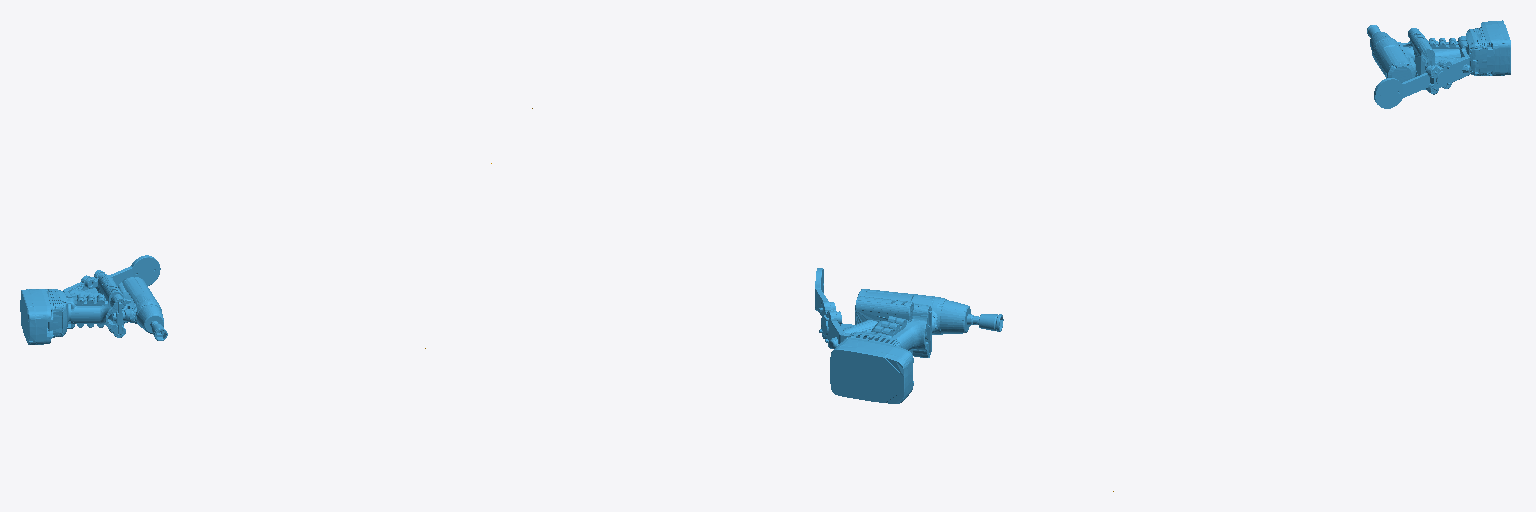
robot.urdf — rbkairos_migration_sensor_config_2:
<?xml version="1.0" ?>
<robot name="rbkairos_migration_sensor_config_2">
  <link name="rbkairos_migration_sensor_config_2/base_footprint">
    <inertial>
      <origin rpy="0 -0 0" xyz="0.006539 -4.8e-05 0.14334"/>
      <mass value="131.751"/>
      <inertia ixx="2.20128" ixy="0.14833" ixz="-0.302225" iyy="7.92558" iyz="0.0013047" izz="6.61545"/>
    </inertial>
    <collision name="summit_xl_base_footprint_fixed_joint_lump__summit_xl_base_link_collision">
      <origin rpy="0 -0 0" xyz="0 0 0.127"/>
      <geometry>
        <mesh filename="package://rbkairos_migration_sensor_config_2/meshes/summit_xls_chassis.stl" scale="1 1 1"/>
      </geometry>
    </collision>
    <collision name="summit_xl_base_footprint_fixed_joint_lump__summit_xl_arm_base_link_collision_1">
      <origin rpy="0 -0 2.35619" xyz="0.1883 0 0.50912"/>
      <geometry>
        <mesh filename="package://rbkairos_migration_sensor_config_2/meshes/base.stl" scale="1 1 1"/>
      </geometry>
    </collision>
    <collision name="summit_xl_base_footprint_fixed_joint_lump__summit_xl_front_laser_base_link_collision_2">
      <origin rpy="3.14159 0 -0.785398" xyz="0.2865 -0.20894 0.4243"/>
      <geometry>
        <mesh filename="package://rbkairos_migration_sensor_config_2/meshes/sick_s300.dae" scale="1 1 1"/>
      </geometry>
    </collision>
    <collision name="summit_xl_base_footprint_fixed_joint_lump__summit_xl_front_rgbd_camera_link_collision_3">
      <origin rpy="0 -0 0" xyz="0.3585 0 0.37762"/>
      <geometry>
        <mesh filename="package://rbkairos_migration_sensor_config_2/meshes/orbbec_astra.dae" scale="1 1 1"/>
      </geometry>
    </collision>
    <collision name="summit_xl_base_footprint_fixed_joint_lump__summit_xl_imu_link_collision_4">
      <origin rpy="0 -0 0" xyz="0.127 -0.129 0.339"/>
      <geometry>
        <box size="0.001 0.001 0.001"/>
      </geometry>
    </collision>
    <collision name="summit_xl_base_footprint_fixed_joint_lump__summit_xl_rear_laser_base_link_collision_5">
      <origin rpy="3.14159 0 2.35619" xyz="-0.2865 0.20894 0.4243"/>
      <geometry>
        <mesh filename="package://rbkairos_migration_sensor_config_2/meshes/sick_s300.dae" scale="1 1 1"/>
      </geometry>
    </collision>
    <visual name="summit_xl_base_footprint_visual">
      <origin rpy="0 -0 0" xyz="0 0 0"/>
      <geometry>
        <box size="0.001 0.001 0.001"/>
      </geometry>
    </visual>
    <visual name="summit_xl_base_footprint_fixed_joint_lump__summit_xl_base_link_visual_1">
      <origin rpy="0 -0 0" xyz="0 0 0.127"/>
      <geometry>
        <mesh filename="package://rbkairos_migration_sensor_config_2/meshes/summit_xls_chassis.stl" scale="1 1 1"/>
      </geometry>
      <material name="black">
        <color rgba="0.0 0.0 0.0 1"/>
      </material>
    </visual>
    <visual name="summit_xl_base_footprint_fixed_joint_lump__summit_xl_arm_base_link_visual_2">
      <origin rpy="0 -0 2.35619" xyz="0.1883 0 0.50912"/>
      <geometry>
        <mesh filename="package://rbkairos_migration_sensor_config_2/meshes/base.dae" scale="1 1 1"/>
      </geometry>
    </visual>
    <visual name="summit_xl_base_footprint_fixed_joint_lump__summit_xl_base_logo_front_visual_3">
      <origin rpy="0 0 -1.5708" xyz="0.345 0 0.127"/>
      <geometry>
        <mesh filename="package://rbkairos_migration_sensor_config_2/meshes/robotnik_logo_chasis.stl" scale="1 1 1"/>
      </geometry>
    </visual>
    <visual name="summit_xl_base_footprint_fixed_joint_lump__summit_xl_base_logo_left_visual_4">
      <origin rpy="0 -0 0" xyz="0 0.28931 0.41762"/>
      <geometry>
        <mesh filename="package://rbkairos_migration_sensor_config_2/meshes/robotnik_logo_chasis.stl" scale="1 1 1"/>
      </geometry>
    </visual>
    <visual name="summit_xl_base_footprint_fixed_joint_lump__summit_xl_base_logo_rear_visual_5">
      <origin rpy="0 -0 1.5708" xyz="-0.345 0 0.127"/>
      <geometry>
        <mesh filename="package://rbkairos_migration_sensor_config_2/meshes/robotnik_logo_chasis.stl" scale="1 1 1"/>
      </geometry>
    </visual>
    <visual name="summit_xl_base_footprint_fixed_joint_lump__summit_xl_base_logo_right_visual_6">
      <origin rpy="0 -0 3.14159" xyz="0 -0.28931 0.41762"/>
      <geometry>
        <mesh filename="package://rbkairos_migration_sensor_config_2/meshes/robotnik_logo_chasis.stl" scale="1 1 1"/>
      </geometry>
    </visual>
    <visual name="summit_xl_base_footprint_fixed_joint_lump__summit_xl_base_chapa_visual_7">
      <origin rpy="0 -0 0" xyz="0 0 0.50762"/>
      <geometry>
        <mesh filename="package://rbkairos_migration_sensor_config_2/meshes/summit_xls_chapas_inox_tapas.stl" scale="1 1 1"/>
      </geometry>
    </visual>
    <visual name="summit_xl_base_footprint_fixed_joint_lump__summit_xl_front_laser_base_link_visual_8">
      <origin rpy="3.14159 0 -0.785398" xyz="0.2865 -0.20894 0.4243"/>
      <geometry>
        <mesh filename="package://rbkairos_migration_sensor_config_2/meshes/sick_s300.dae" scale="1 1 1"/>
      </geometry>
    </visual>
    <visual name="summit_xl_base_footprint_fixed_joint_lump__summit_xl_front_rgbd_camera_link_visual_9">
      <origin rpy="0 -0 0" xyz="0.3585 0 0.37762"/>
      <geometry>
        <mesh filename="package://rbkairos_migration_sensor_config_2/meshes/orbbec_astra.dae" scale="1 1 1"/>
      </geometry>
    </visual>
    <visual name="summit_xl_base_footprint_fixed_joint_lump__summit_xl_imu_link_visual_10">
      <origin rpy="0 -0 0" xyz="0.127 -0.129 0.339"/>
      <geometry>
        <box size="0.001 0.001 0.001"/>
      </geometry>
    </visual>
    <visual name="summit_xl_base_footprint_fixed_joint_lump__summit_xl_rear_laser_base_link_visual_11">
      <origin rpy="3.14159 0 2.35619" xyz="-0.2865 0.20894 0.4243"/>
      <geometry>
        <mesh filename="package://rbkairos_migration_sensor_config_2/meshes/sick_s300.dae" scale="1 1 1"/>
      </geometry>
    </visual>
  </link>
  <sensor name="imu_sensor" update_rate="0">
    <parent link="rbkairos_migration_sensor_config_2/base_footprint"/>
    <origin rpy="0 -0 0" xyz="0.127 -0.129 0.339"/>
  </sensor>
  <link name="rbkairos_migration_sensor_config_2/front_laser_link">
    <inertial>
      <origin rpy="0 0 0" xyz="0 0 0"/>
      <mass value="1"/>
      <inertia ixx="1" ixy="0" ixz="0" iyy="1" iyz="0" izz="1"/>
    </inertial>
  </link>
  <sensor name="summit_xl_front_laser_sensor" update_rate="12.5">
    <parent link="rbkairos_migration_sensor_config_2/front_laser_link"/>
    <origin rpy="0 -0 0" xyz="0 0 0"/>
  </sensor>
  <link name="rbkairos_migration_sensor_config_2/rear_laser_link">
    <inertial>
      <origin rpy="3.14159 -2e-06 2.35619" xyz="-0.350329 0.054844 0.3083"/>
      <mass value="1"/>
      <inertia ixx="1" ixy="0" ixz="0" iyy="1" iyz="0" izz="1"/>
    </inertial>
  </link>
  <sensor name="summit_xl_rear_laser_sensor" update_rate="12.5">
    <parent link="rbkairos_migration_sensor_config_2/rear_laser_link"/>
    <origin rpy="0 -0 0" xyz="0 0 0"/>
  </sensor>
  <link name="rbkairos_migration_sensor_config_2/summit_xl_front_rgbd_camera_depth_link">
    <inertial>
      <origin rpy="0 -0 0" xyz="-0.3585 0 -0.37762"/>
      <mass value="1"/>
      <inertia ixx="1" ixy="0" ixz="0" iyy="1" iyz="0" izz="1"/>
    </inertial>
  </link>
  <sensor name="summit_xl_front_rgbd_camera_depth_sensor" update_rate="20">
    <parent link="rbkairos_migration_sensor_config_2/summit_xl_front_rgbd_camera_depth_link"/>
    <origin rpy="0 -0 0" xyz="0 0 0"/>
    <camera>
      <image far="100" format="R8G8B8" height="480" hfov="1.0472" near="0.05" width="640"/>
    </camera>
  </sensor>
  <link name="rbkairos_migration_sensor_config_2/shoulder_link">
    <inertial>
      <origin rpy="0 0 -2.35619" xyz="0.133148 0.133148 -0.63642"/>
      <mass value="7.778"/>
      <inertia ixx="0.0314743" ixy="0" ixz="0" iyy="0.0314743" iyz="0" izz="0.0218756"/>
    </inertial>
    <collision name="summit_xl_arm_shoulder_link_collision">
      <origin rpy="0 0 0" xyz="0 0 0"/>
      <geometry>
        <mesh filename="package://rbkairos_migration_sensor_config_2/meshes/shoulder.stl" scale="1 1 1"/>
      </geometry>
    </collision>
    <visual name="summit_xl_arm_shoulder_link_visual">
      <origin rpy="0 0 0" xyz="0 0 0"/>
      <geometry>
        <mesh filename="package://rbkairos_migration_sensor_config_2/meshes/shoulder.dae" scale="1 1 1"/>
      </geometry>
    </visual>
  </link>
  <link name="rbkairos_migration_sensor_config_2/upper_arm_link">
    <inertial>
      <origin rpy="0 -1.5708 0" xyz="-0.306 -0.265941 -0"/>
      <mass value="12.93"/>
      <inertia ixx="0.421754" ixy="0" ixz="0" iyy="0.421754" iyz="0" izz="0.0363656"/>
    </inertial>
    <collision name="summit_xl_arm_upper_arm_link_collision">
      <origin rpy="0 0 0" xyz="0 0 0"/>
      <geometry>
        <mesh filename="package://rbkairos_migration_sensor_config_2/meshes/upperarm.stl" scale="1 1 1"/>
      </geometry>
    </collision>
    <visual name="summit_xl_arm_upper_arm_link_visual">
      <origin rpy="0 0 0" xyz="0 0 0"/>
      <geometry>
        <mesh filename="package://rbkairos_migration_sensor_config_2/meshes/upperarm.dae" scale="1 1 1"/>
      </geometry>
    </visual>
  </link>
  <link name="rbkairos_migration_sensor_config_2/forearm_link">
    <inertial>
      <origin rpy="0 -0 0" xyz="0 0.1719 -0.32585"/>
      <mass value="3.87"/>
      <inertia ixx="0.11107" ixy="0" ixz="0" iyy="0.11107" iyz="0" izz="0.0108844"/>
    </inertial>
    <collision name="summit_xl_arm_forearm_link_collision">
      <origin rpy="0 -0 0" xyz="0 0 0"/>
      <geometry>
        <mesh filename="package://rbkairos_migration_sensor_config_2/meshes/forearm.stl" scale="1 1 1"/>
      </geometry>
    </collision>
    <visual name="summit_xl_arm_forearm_link_visual">
      <origin rpy="0 -0 0" xyz="0 0 0"/>
      <geometry>
        <mesh filename="package://rbkairos_migration_sensor_config_2/meshes/forearm.dae" scale="1 1 1"/>
      </geometry>
    </visual>
  </link>
  <link name="rbkairos_migration_sensor_config_2/wrist_1_link">
    <inertial>
      <origin rpy="0 -1.5708 0" xyz="0.5723 0.1149 0"/>
      <mass value="1.96"/>
      <inertia ixx="0.00510825" ixy="0" ixz="0" iyy="0.00510825" iyz="0" izz="0.0055125"/>
    </inertial>
    <collision name="summit_xl_arm_wrist_1_link_collision">
      <origin rpy="0 0 0" xyz="0 0 0"/>
      <geometry>
        <mesh filename="package://rbkairos_migration_sensor_config_2/meshes/wrist1.stl" scale="1 1 1"/>
      </geometry>
    </collision>
    <visual name="summit_xl_arm_wrist_1_link_visual">
      <origin rpy="0 0 0" xyz="0 0 0"/>
      <geometry>
        <mesh filename="package://rbkairos_migration_sensor_config_2/meshes/wrist1.dae" scale="1 1 1"/>
      </geometry>
    </visual>
  </link>
  <link name="rbkairos_migration_sensor_config_2/wrist_2_link">
    <inertial>
      <origin rpy="0 -0 0" xyz="0 -0.1149 0.1157"/>
      <mass value="1.96"/>
      <inertia ixx="0.00510825" ixy="0" ixz="0" iyy="0.00510825" iyz="0" izz="0.0055125"/>
    </inertial>
    <collision name="summit_xl_arm_wrist_2_link_collision">
      <origin rpy="0 -0 0" xyz="0 0 0"/>
      <geometry>
        <mesh filename="package://rbkairos_migration_sensor_config_2/meshes/wrist2.stl" scale="1 1 1"/>
      </geometry>
    </collision>
    <visual name="summit_xl_arm_wrist_2_link_visual">
      <origin rpy="0 -0 0" xyz="0 -0 0"/>
      <geometry>
        <mesh filename="package://rbkairos_migration_sensor_config_2/meshes/wrist2.dae" scale="1 1 1"/>
      </geometry>
    </visual>
  </link>
  <link name="rbkairos_migration_sensor_config_2/wrist_3_link">
    <inertial>
      <origin rpy="1.5708 -0 0" xyz="0 0.07695 -0.1157"/>
      <mass value="0.202"/>
      <inertia ixx="0.000117922" ixy="0" ixz="0" iyy="0.000117922" iyz="0" izz="0.000204525"/>
    </inertial>
    <collision name="summit_xl_arm_wrist_3_link_collision">
      <origin rpy="0 -0 0" xyz="0 0 0"/>
      <geometry>
        <mesh filename="package://rbkairos_migration_sensor_config_2/meshes/wrist3.stl" scale="1 1 1"/>
      </geometry>
    </collision>
    <collision name="summit_xl_arm_wrist_3_link_fixed_joint_lump__summit_xl_arm_ee_link_collision_1">
      <origin rpy="0 -0 1.5708" xyz="-0 0.0822 0"/>
      <geometry>
        <box size="0.01 0.01 0.01"/>
      </geometry>
    </collision>
    <collision name="summit_xl_arm_wrist_3_link_fixed_joint_lump__summit_xl_tbp_gripper_base_link_collision_2">
      <origin rpy="-1.5708 0 0" xyz="0 0.0922 0"/>
      <geometry>
        <mesh filename="package://rbkairos_migration_sensor_config_2/meshes/tbp_tool_holder_collision.stl" scale="0.001 0.001 0.001"/>
      </geometry>
    </collision>
    <collision name="summit_xl_arm_wrist_3_link_fixed_joint_lump__summit_xl_tbp_gripper_camera_holder_collision_3">
      <origin rpy="-1.5708 0 0" xyz="0 0.1052 0"/>
      <geometry>
        <mesh filename="package://rbkairos_migration_sensor_config_2/meshes/tbp_cam_holder_collision.stl" scale="0.001 0.001 0.001"/>
      </geometry>
    </collision>
    <collision name="summit_xl_arm_wrist_3_link_fixed_joint_lump__summit_xl_wrist_rgbd_link_collision_4">
      <origin rpy="-1.22173 -1.5708 0" xyz="0.118674 0.136572 0"/>
      <geometry>
        <cylinder length="0.026" radius="0.0305"/>
      </geometry>
    </collision>
    <collision name="summit_xl_arm_wrist_3_link_fixed_joint_lump__summit_xl_tbp_gripper_screw_nut_collision_5">
      <origin rpy="-1.5708 -0 0.522" xyz="-0.054566 0.338359 0"/>
      <geometry>
        <cylinder length="0.035" radius="0.015"/>
      </geometry>
    </collision>
    <visual name="summit_xl_arm_wrist_3_link_visual">
      <origin rpy="0 -0 0" xyz="0 0 0"/>
      <geometry>
        <mesh filename="package://rbkairos_migration_sensor_config_2/meshes/wrist3.dae" scale="1 1 1"/>
      </geometry>
    </visual>
    <visual name="summit_xl_arm_wrist_3_link_fixed_joint_lump__summit_xl_tbp_gripper_base_link_visual_1">
      <origin rpy="-1.5708 0 0" xyz="0 0.0922 0"/>
      <geometry>
        <mesh filename="package://rbkairos_migration_sensor_config_2/meshes/tbp_tool_holder.stl" scale="0.001 0.001 0.001"/>
      </geometry>
    </visual>
    <visual name="summit_xl_arm_wrist_3_link_fixed_joint_lump__summit_xl_tbp_gripper_camera_holder_visual_2">
      <origin rpy="-1.5708 0 0" xyz="0 0.1052 0"/>
      <geometry>
        <mesh filename="package://rbkairos_migration_sensor_config_2/meshes/tbp_cam_holder.stl" scale="0.001 0.001 0.001"/>
      </geometry>
    </visual>
    <visual name="summit_xl_arm_wrist_3_link_fixed_joint_lump__summit_xl_wrist_rgbd_link_visual_3">
      <origin rpy="-1.22173 -1.5708 0" xyz="0.114227 0.148788 0"/>
      <geometry>
        <mesh filename="package://rbkairos_migration_sensor_config_2/meshes/l515.dae" scale="1 1 1"/>
      </geometry>
    </visual>
    <visual name="summit_xl_arm_wrist_3_link_fixed_joint_lump__summit_xl_tbp_gripper_screw_nut_visual_4">
      <origin rpy="-1.5708 -0 0.522" xyz="-0.04584 0.32319 0"/>
      <geometry>
        <mesh filename="package://rbkairos_migration_sensor_config_2/meshes/tbp_hex_nut_19mm.stl" scale="0.001 0.001 0.001"/>
      </geometry>
    </visual>
  </link>
  <link name="rbkairos_migration_sensor_config_2/summit_xl_back_left_wheel_link">
    <inertial>
      <origin rpy="0 -0 0" xyz="0.2225 -0.2045 -0.127"/>
      <mass value="6.5"/>
      <inertia ixx="0.0303095" ixy="0" ixz="0" iyy="0.0524193" iyz="0" izz="0.0303095"/>
    </inertial>
    <collision name="summit_xl_back_left_wheel_link_collision">
      <origin rpy="1.5708 -0 0" xyz="0 0 0"/>
      <geometry>
        <cylinder length="0.087" radius="0.127"/>
      </geometry>
    </collision>
    <visual name="summit_xl_back_left_wheel_link_visual">
      <origin rpy="0 -0 0" xyz="0 0 0"/>
      <geometry>
        <mesh filename="package://rbkairos_migration_sensor_config_2/meshes/omni_wheel_2.dae" scale="1 1 1"/>
      </geometry>
    </visual>
  </link>
  <link name="rbkairos_migration_sensor_config_2/summit_xl_back_right_wheel_link">
    <inertial>
      <origin rpy="0 -0 0" xyz="0.2225 0.2045 -0.127"/>
      <mass value="6.5"/>
      <inertia ixx="0.0303095" ixy="0" ixz="0" iyy="0.0524193" iyz="0" izz="0.0303095"/>
    </inertial>
    <collision name="summit_xl_back_right_wheel_link_collision">
      <origin rpy="1.5708 -0 0" xyz="0 0 0"/>
      <geometry>
        <cylinder length="0.087" radius="0.127"/>
      </geometry>
    </collision>
    <visual name="summit_xl_back_right_wheel_link_visual">
      <origin rpy="0 -0 0" xyz="0 0 0"/>
      <geometry>
        <mesh filename="package://rbkairos_migration_sensor_config_2/meshes/omni_wheel_1.dae" scale="1 1 1"/>
      </geometry>
    </visual>
  </link>
  <link name="rbkairos_migration_sensor_config_2/summit_xl_front_left_wheel_link">
    <inertial>
      <origin rpy="0 -0 0" xyz="-0.2225 -0.2045 -0.127"/>
      <mass value="6.5"/>
      <inertia ixx="0.0303095" ixy="0" ixz="0" iyy="0.0524193" iyz="0" izz="0.0303095"/>
    </inertial>
    <collision name="summit_xl_front_left_wheel_link_collision">
      <origin rpy="1.5708 -0 0" xyz="0 0 0"/>
      <geometry>
        <cylinder length="0.087" radius="0.127"/>
      </geometry>
    </collision>
    <visual name="summit_xl_front_left_wheel_link_visual">
      <origin rpy="0 -0 0" xyz="0 0 0"/>
      <geometry>
        <mesh filename="package://rbkairos_migration_sensor_config_2/meshes/omni_wheel_1.dae" scale="1 1 1"/>
      </geometry>
    </visual>
  </link>
  <link name="rbkairos_migration_sensor_config_2/summit_xl_front_right_wheel_link">
    <inertial>
      <origin rpy="0 -0 0" xyz="-0.2225 0.2045 -0.127"/>
      <mass value="6.5"/>
      <inertia ixx="0.0303095" ixy="0" ixz="0" iyy="0.0524193" iyz="0" izz="0.0303095"/>
    </inertial>
    <collision name="summit_xl_front_right_wheel_link_collision">
      <origin rpy="1.5708 -0 0" xyz="0 0 0"/>
      <geometry>
        <cylinder length="0.087" radius="0.127"/>
      </geometry>
    </collision>
    <visual name="summit_xl_front_right_wheel_link_visual">
      <origin rpy="0 -0 0" xyz="0 0 0"/>
      <geometry>
        <mesh filename="package://rbkairos_migration_sensor_config_2/meshes/omni_wheel_2.dae" scale="1 1 1"/>
      </geometry>
    </visual>
  </link>
  <link name="rbkairos_migration_sensor_config_2/ee_link">
    <collision>
      <geometry>
        <box size="0.01 0.01 0.01"/>
      </geometry>
      <origin rpy="0 0 0" xyz="-0.01 0 0"/>
    </collision>
  </link>
  <joint name="ee_fixed_joint" type="fixed">
    <parent link="rbkairos_migration_sensor_config_2/wrist_3_link"/>
    <child link="rbkairos_migration_sensor_config_2/ee_link"/>
    <origin rpy="0.0 0.0 1.5707963267948966" xyz="0.0 0.0922 0.0"/>
  </joint>
  <joint name="front_laser_joint" type="fixed">
    <origin rpy="3.14159 0 -0.785398" xyz="0.2865 -0.20894 0.3083"/>
    <parent link="rbkairos_migration_sensor_config_2/base_footprint"/>
    <child link="rbkairos_migration_sensor_config_2/front_laser_link"/>
    <axis xyz="0 0 1"/>
    <limit effort="-1" lower="-1e+16" upper="1e+16" velocity="-1"/>
  </joint>
  <joint name="rear_laser_joint" type="fixed">
    <origin rpy="3.14159 0 2.35619" xyz="-0.2865 0.20894 0.3083"/>
    <parent link="rbkairos_migration_sensor_config_2/base_footprint"/>
    <child link="rbkairos_migration_sensor_config_2/rear_laser_link"/>
    <axis xyz="0 0 1"/>
    <limit effort="-1" lower="-1e+16" upper="1e+16" velocity="-1"/>
  </joint>
  <joint name="front_rgbd_camera_depth_joint" type="fixed">
    <origin rpy="0 -0 0" xyz="0.3585 0 0.37762"/>
    <parent link="rbkairos_migration_sensor_config_2/base_footprint"/>
    <child link="rbkairos_migration_sensor_config_2/summit_xl_front_rgbd_camera_depth_link"/>
    <axis xyz="0 0 1"/>
    <limit effort="-1" lower="-1e+16" upper="1e+16" velocity="-1"/>
  </joint>
  <joint name="shoulder_pan_joint" type="revolute">
    <origin rpy="0 -0 2.35619" xyz="0.1883 0 0.63642"/>
    <parent link="rbkairos_migration_sensor_config_2/base_footprint"/>
    <child link="rbkairos_migration_sensor_config_2/shoulder_link"/>
    <dynamics damping="0" friction="0"/>
    <axis xyz="0 0 1"/>
    <limit effort="330" lower="-6.28319" upper="6.28319" velocity="2.16"/>
  </joint>
  <joint name="shoulder_lift_joint" type="revolute">
    <origin rpy="0 1.5708 0" xyz="0 0.220941 0"/>
    <parent link="rbkairos_migration_sensor_config_2/shoulder_link"/>
    <child link="rbkairos_migration_sensor_config_2/upper_arm_link"/>
    <dynamics damping="0" friction="0"/>
    <axis xyz="0 1 0"/>
    <limit effort="330" lower="-6.28319" upper="6.28319" velocity="2.16"/>
  </joint>
  <joint name="elbow_joint" type="revolute">
    <origin rpy="0 -0 0" xyz="0 -0.1719 0.612"/>
    <parent link="rbkairos_migration_sensor_config_2/upper_arm_link"/>
    <child link="rbkairos_migration_sensor_config_2/forearm_link"/>
    <dynamics damping="0" friction="0"/>
    <axis xyz="0 1 0"/>
    <limit effort="150" lower="-3.14159" upper="3.14159" velocity="3.15"/>
  </joint>
  <joint name="wrist_1_joint" type="revolute">
    <origin rpy="0 1.5708 0" xyz="0 0 0.5723"/>
    <parent link="rbkairos_migration_sensor_config_2/forearm_link"/>
    <child link="rbkairos_migration_sensor_config_2/wrist_1_link"/>
    <dynamics damping="0" friction="0"/>
    <axis xyz="0 1 0"/>
    <limit effort="54" lower="-6.28319" upper="6.28319" velocity="3.2"/>
  </joint>
  <joint name="wrist_2_joint" type="revolute">
    <origin rpy="0 -0 0" xyz="0 0.1149 0"/>
    <parent link="rbkairos_migration_sensor_config_2/wrist_1_link"/>
    <child link="rbkairos_migration_sensor_config_2/wrist_2_link"/>
    <dynamics damping="0" friction="0"/>
    <axis xyz="0 0 1"/>
    <limit effort="54" lower="-6.28319" upper="6.28319" velocity="3.2"/>
  </joint>
  <joint name="wrist_3_joint" type="revolute">
    <origin rpy="0 -0 0" xyz="0 0 0.1157"/>
    <parent link="rbkairos_migration_sensor_config_2/wrist_2_link"/>
    <child link="rbkairos_migration_sensor_config_2/wrist_3_link"/>
    <dynamics damping="0" friction="0"/>
    <axis xyz="0 1 0"/>
    <limit effort="54" lower="-6.28319" upper="6.28319" velocity="3.2"/>
  </joint>
  <joint name="summit_xl_back_left_wheel_joint" type="revolute">
    <origin rpy="0 -0 0" xyz="-0.2225 0.2045 0.127"/>
    <parent link="rbkairos_migration_sensor_config_2/base_footprint"/>
    <child link="rbkairos_migration_sensor_config_2/summit_xl_back_left_wheel_link"/>
    <dynamics damping="0" friction="0"/>
    <axis xyz="0 1 0"/>
    <limit effort="100" lower="-1e+16" upper="1e+16" velocity="100"/>
  </joint>
  <joint name="summit_xl_back_right_wheel_joint" type="revolute">
    <origin rpy="0 -0 0" xyz="-0.2225 -0.2045 0.127"/>
    <parent link="rbkairos_migration_sensor_config_2/base_footprint"/>
    <child link="rbkairos_migration_sensor_config_2/summit_xl_back_right_wheel_link"/>
    <dynamics damping="0" friction="0"/>
    <axis xyz="0 1 0"/>
    <limit effort="100" lower="-1e+16" upper="1e+16" velocity="100"/>
  </joint>
  <joint name="summit_xl_front_left_wheel_joint" type="revolute">
    <origin rpy="0 -0 0" xyz="0.2225 0.2045 0.127"/>
    <parent link="rbkairos_migration_sensor_config_2/base_footprint"/>
    <child link="rbkairos_migration_sensor_config_2/summit_xl_front_left_wheel_link"/>
    <dynamics damping="0" friction="0"/>
    <axis xyz="0 1 0"/>
    <limit effort="100" lower="-1e+16" upper="1e+16" velocity="100"/>
  </joint>
  <joint name="summit_xl_front_right_wheel_joint" type="revolute">
    <origin rpy="0 -0 0" xyz="0.2225 -0.2045 0.127"/>
    <parent link="rbkairos_migration_sensor_config_2/base_footprint"/>
    <child link="rbkairos_migration_sensor_config_2/summit_xl_front_right_wheel_link"/>
    <dynamics damping="0" friction="0"/>
    <axis xyz="0 1 0"/>
    <limit effort="100" lower="-1e+16" upper="1e+16" velocity="100"/>
  </joint>
</robot>

--- Facts derived from the render (not from the file) ---
Views: 3 orthographic renders of the robot side by side, from view 1: azimuth 90°, elevation 25°; view 2: azimuth 150°, elevation 25°; view 3: azimuth 270°, elevation 25°.
Robot: rbkairos_migration_sensor_config_2 — 15 links, 14 joints (10 revolute, 4 fixed); root link rbkairos_migration_sensor_config_2/base_footprint; default pose: every joint at zero.
Links seen in each view (by area): view 1: rbkairos_migration_sensor_config_2/wrist_3_link; view 2: rbkairos_migration_sensor_config_2/wrist_3_link; view 3: rbkairos_migration_sensor_config_2/wrist_3_link.
Boxes of the visible links, box(x1,y1,x2,y2) form: rbkairos_migration_sensor_config_2/wrist_3_link: box(20, 255, 167, 344); rbkairos_migration_sensor_config_2/wrist_3_link: box(815, 268, 1003, 403); rbkairos_migration_sensor_config_2/wrist_3_link: box(1367, 20, 1510, 108).
Bounding box of the posed robot: 1.19 × 0.9222 × 0.5665 m (x, y, z).
3 mesh visuals loaded from 18 distinct referenced files (3 binary STL); not drawn: 21 (reference not matched to a file when rendering).